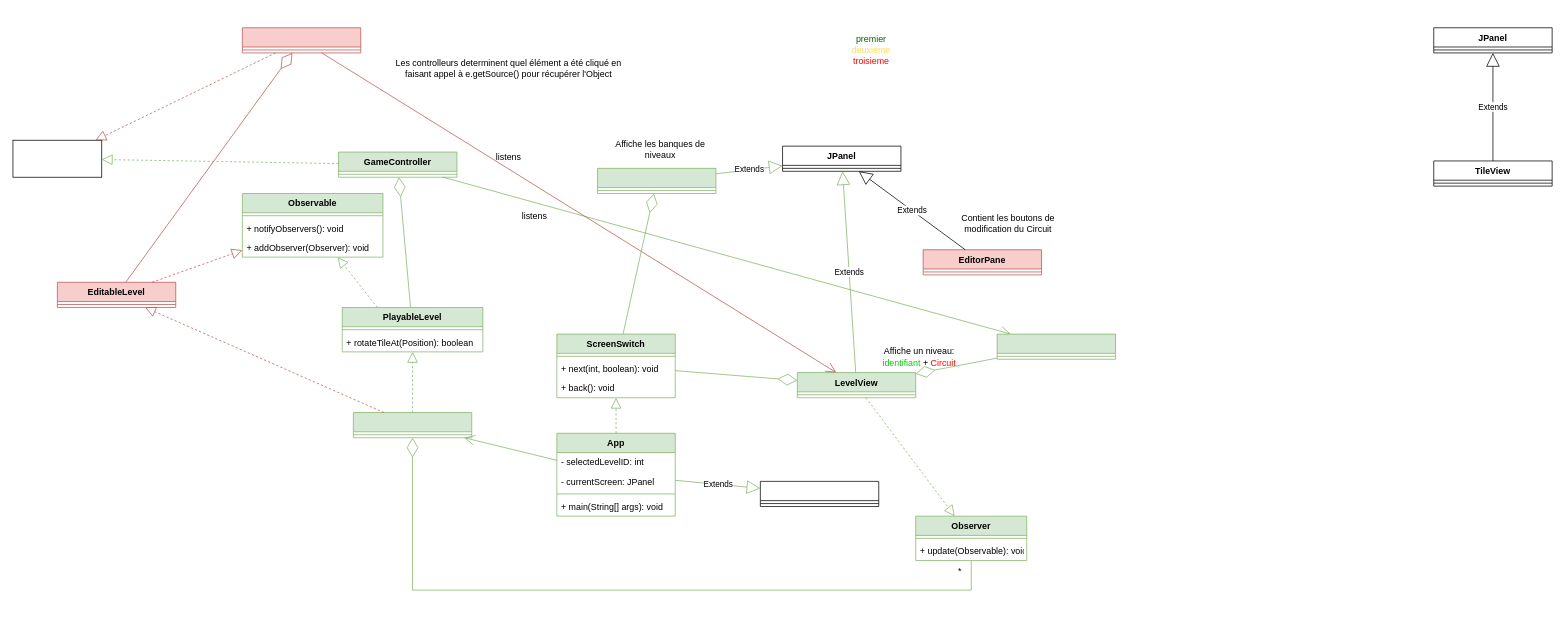
Some shapes in this 1565 by 622 pixel diagram are drawn without their labels. Here are the shapes that lost their labels. From the top down, the centre of each, then its label:
pixel 301 40: EditorController
pixel 57 158: MouseInputAdapter
pixel 656 181: LevelSelectionPane
pixel 1056 346: CircuitView
pixel 412 425: Level
pixel 819 494: JFrame
